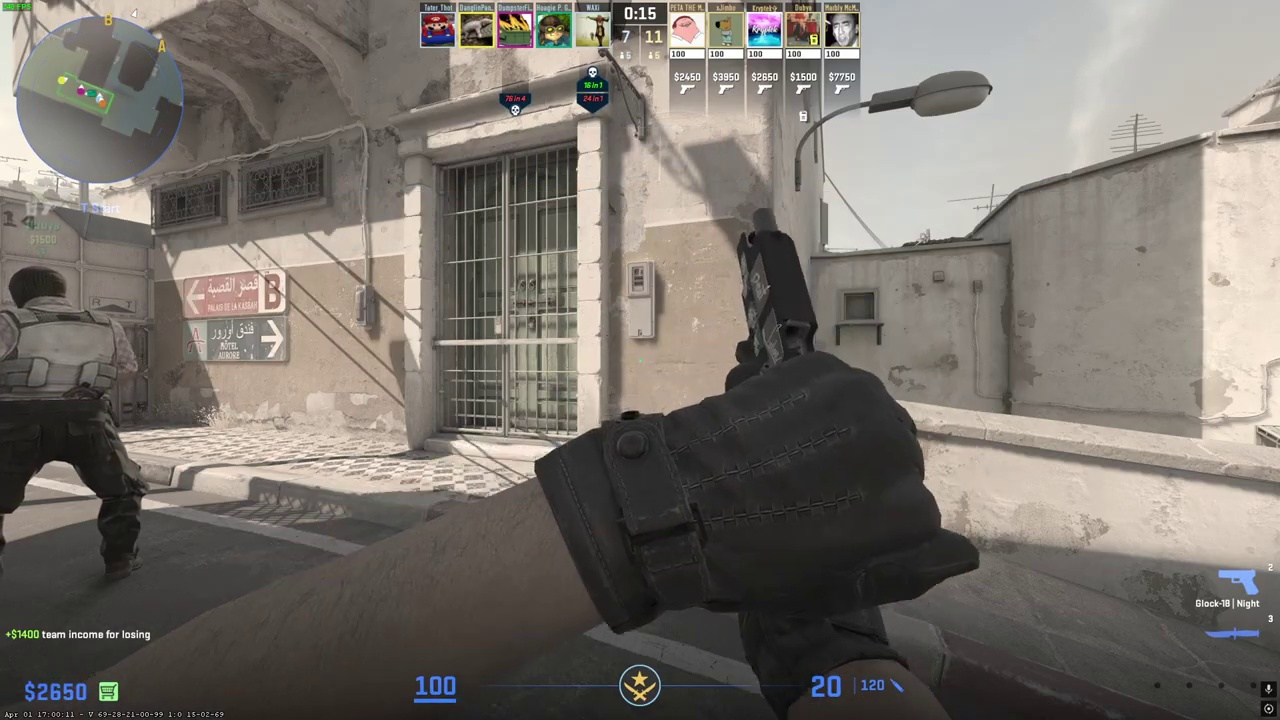Terrorist: (0, 263, 149, 601)
